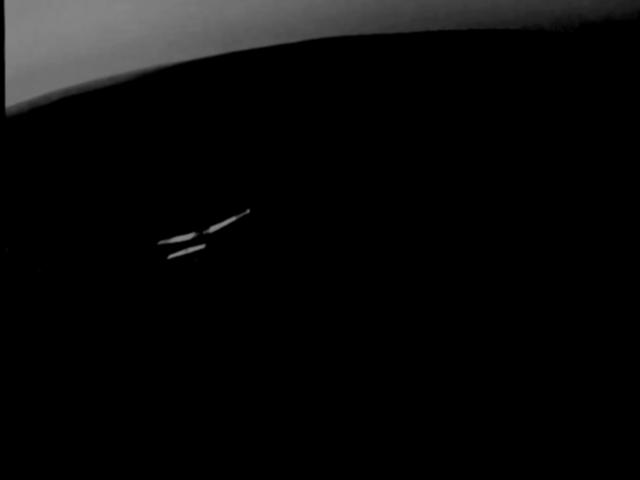hedef: (150, 199, 246, 289)
